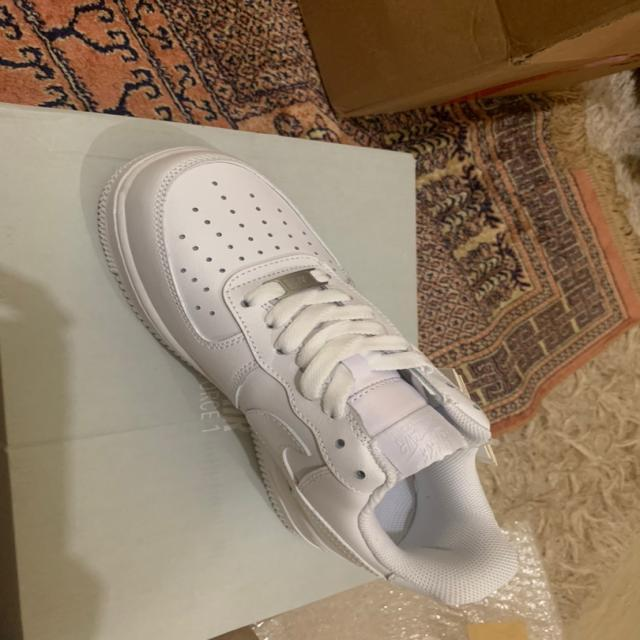nike original air force: (90, 142, 536, 612)
